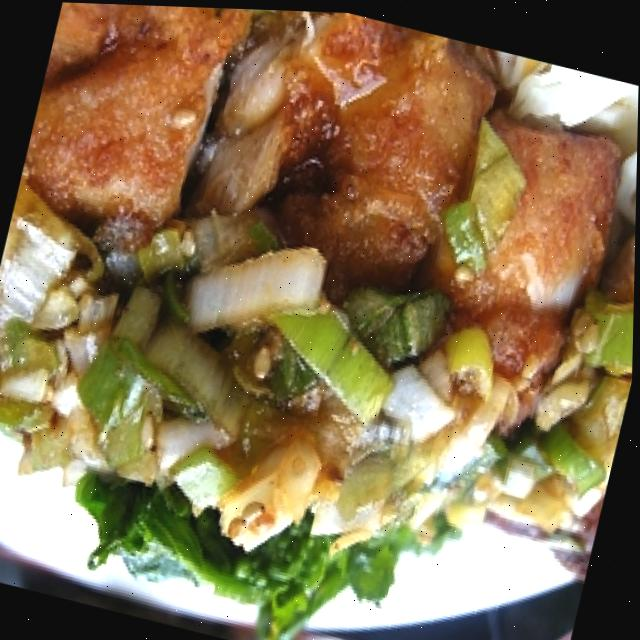鸡肉料理 含炸鸡: (0, 0, 640, 579)
